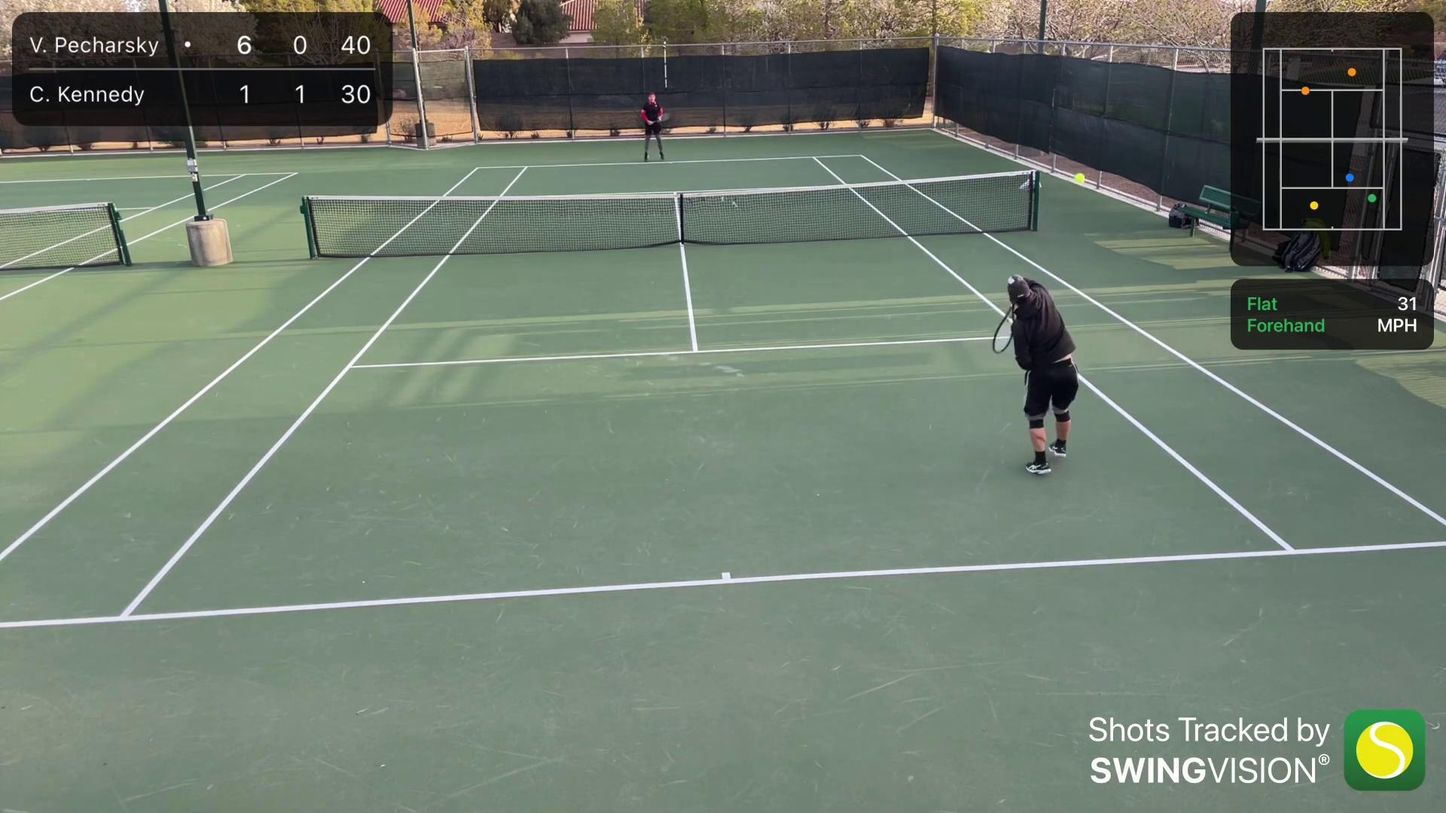ball: (1072, 172, 1088, 184)
